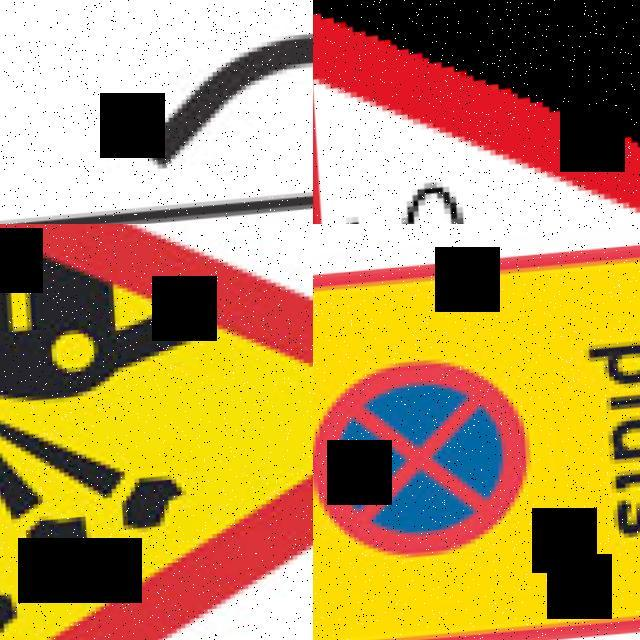159: (0, 224, 313, 640)
170: (0, 0, 313, 224)
177: (313, 224, 640, 640)
Slippery road: (313, 0, 640, 224)
